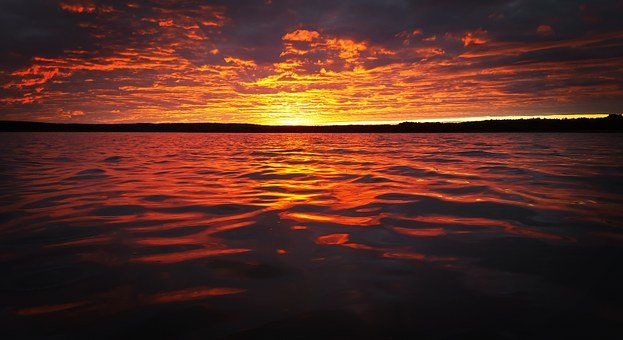sea: (13, 128, 623, 338)
sky: (8, 1, 619, 119)
